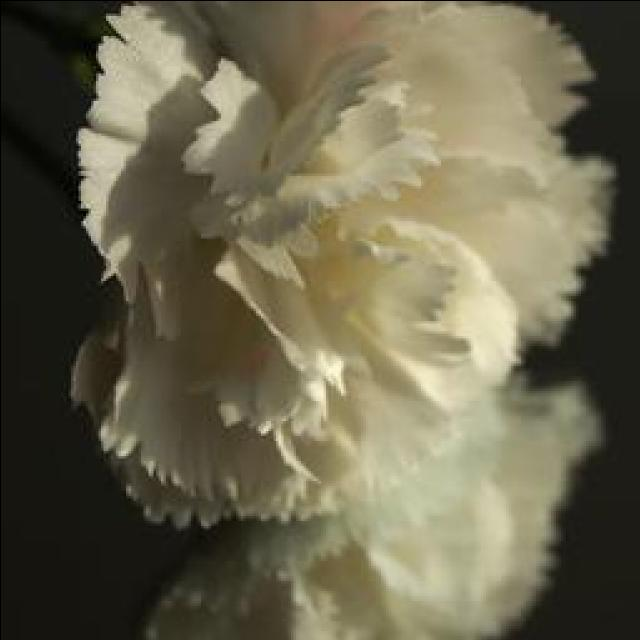carnation: (46, 4, 574, 498)
